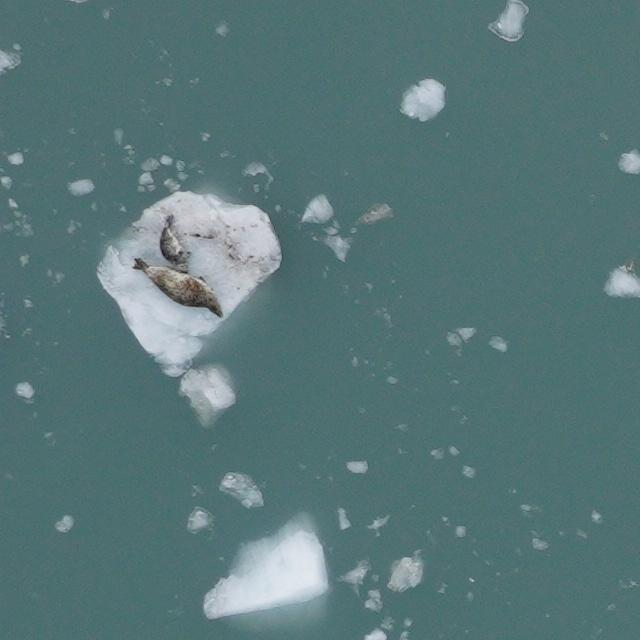seal: (131, 254, 229, 323), (156, 209, 196, 280)
